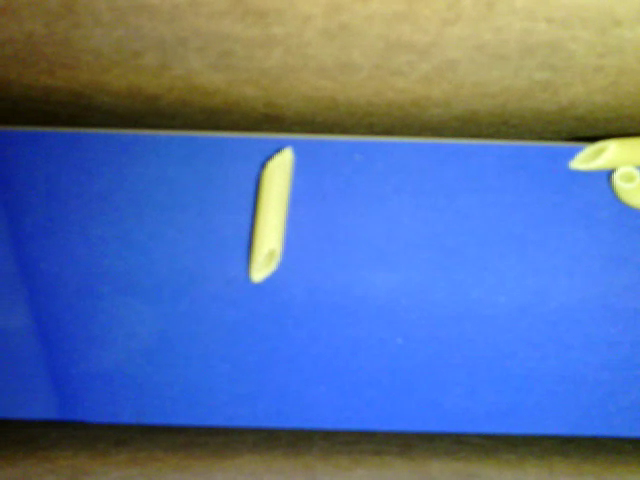elbow: (612, 165, 639, 208)
penne: (248, 145, 295, 284), (567, 136, 639, 171)
